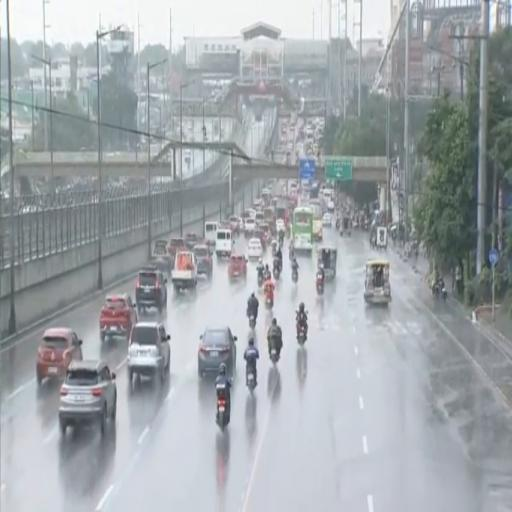bus: (292, 206, 313, 253), (308, 200, 323, 241)
car: (59, 360, 116, 436), (127, 322, 170, 383), (36, 328, 82, 385), (198, 327, 237, 377), (100, 294, 137, 342), (136, 266, 167, 313), (171, 251, 197, 292), (151, 239, 172, 273), (193, 245, 212, 277), (216, 228, 234, 258), (228, 254, 247, 279), (169, 237, 186, 264), (248, 238, 263, 260), (254, 230, 268, 251), (185, 233, 202, 250), (245, 217, 256, 236), (229, 216, 239, 233), (322, 213, 332, 227), (276, 219, 285, 232), (327, 201, 335, 214), (239, 218, 244, 232)
motorcycle: (217, 394, 229, 430), (246, 370, 256, 393), (435, 282, 447, 300), (270, 341, 279, 365), (297, 323, 306, 346), (316, 272, 323, 295), (265, 296, 273, 310), (288, 248, 296, 262), (291, 269, 298, 284), (273, 265, 280, 280), (279, 232, 284, 249), (249, 315, 255, 329), (272, 240, 276, 257), (258, 274, 263, 287), (336, 218, 340, 229)
